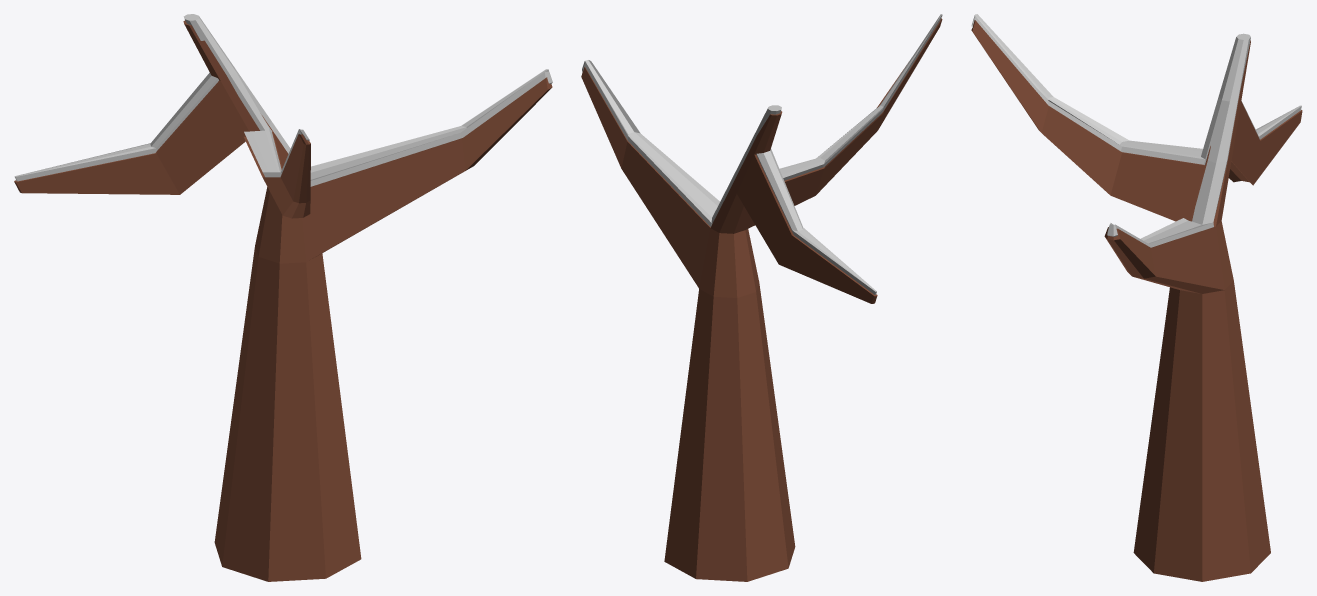
File: bush_5_winter_vc.fbx
The picture shows the model from 3 angles, left to right: view 1: azimuth 30°, elevation 25°; view 2: azimuth 150°, elevation 25°; view 3: azimuth 270°, elevation 25°; orthographic projection. The views are drawn at different scales.
Visible parts, largest first — view 1: bush_5_winter_vc; view 2: bush_5_winter_vc; view 3: bush_5_winter_vc.
Boxes of the visible parts, x1,y1,x2,y2 form: bush_5_winter_vc: (14,14,552,581); bush_5_winter_vc: (581,14,942,581); bush_5_winter_vc: (971,14,1302,581).
Bounding box in the file's own units: 51.33 × 61.03 × 37.47.
